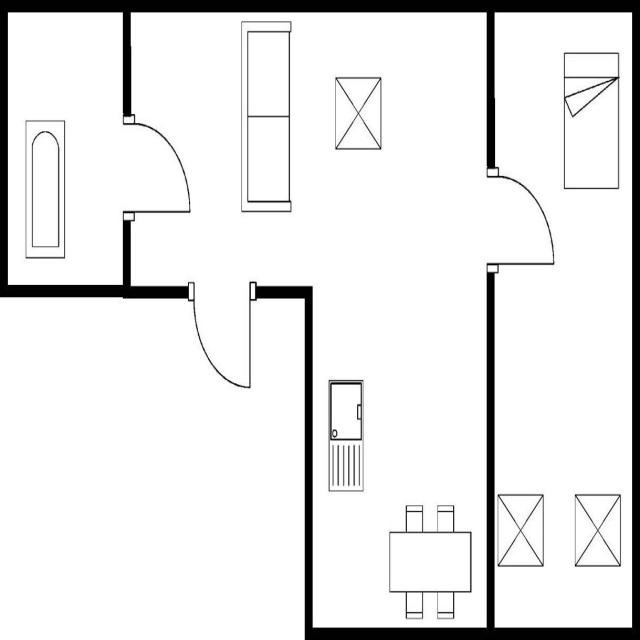bed: (560, 47, 621, 192)
coffee_table: (333, 74, 384, 154), (496, 490, 546, 570), (571, 492, 621, 571)
dining_table: (387, 500, 475, 622), (496, 489, 546, 571)
large_sofa: (239, 17, 292, 216)
sink: (325, 375, 365, 494)
tub: (23, 116, 67, 261)
